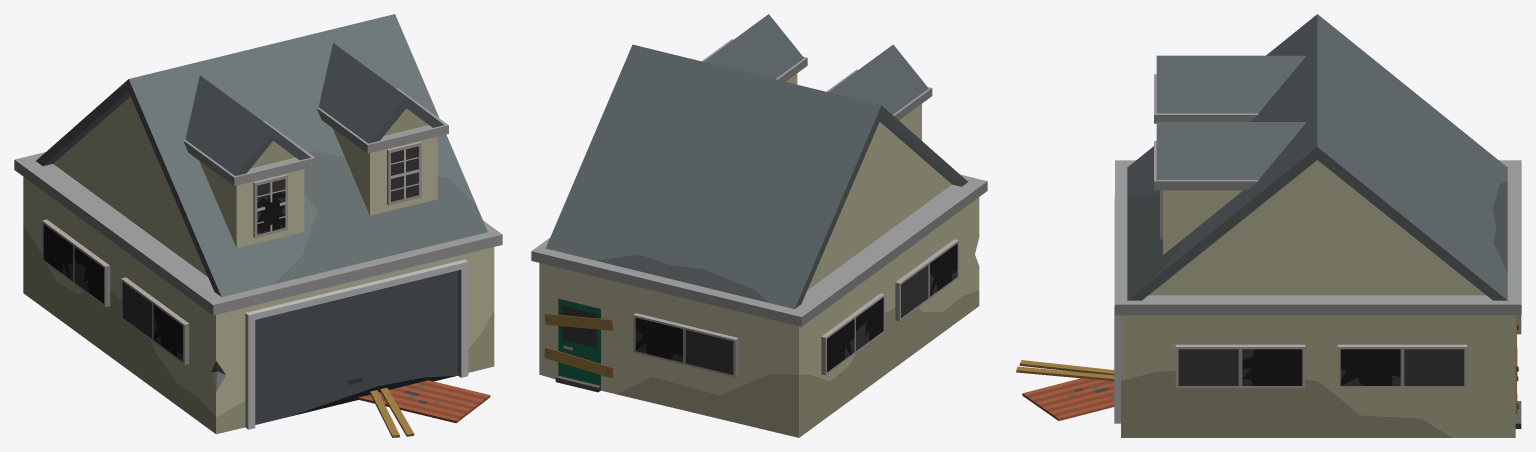
The model's file is SA_Bld_HouseGarage_04.gltf.
3 views of the same model, side by side, from view 1: azimuth 30°, elevation 25°; view 2: azimuth 150°, elevation 25°; view 3: azimuth 270°, elevation 25° (orthographic). The views are drawn at different scales.
Visible parts, largest first — view 1: SA_Bld_HouseGarage_04; view 2: SA_Bld_HouseGarage_04; view 3: SA_Bld_HouseGarage_04.
Boxes of the visible parts, left/top/right/bottom form: SA_Bld_HouseGarage_04: left=14, top=14, right=502, bottom=437; SA_Bld_HouseGarage_04: left=531, top=14, right=987, bottom=437; SA_Bld_HouseGarage_04: left=1016, top=14, right=1521, bottom=437.
Size of the model in its own units: 12.37 by 11.61 by 18.29.
1 material, 1 textured.
